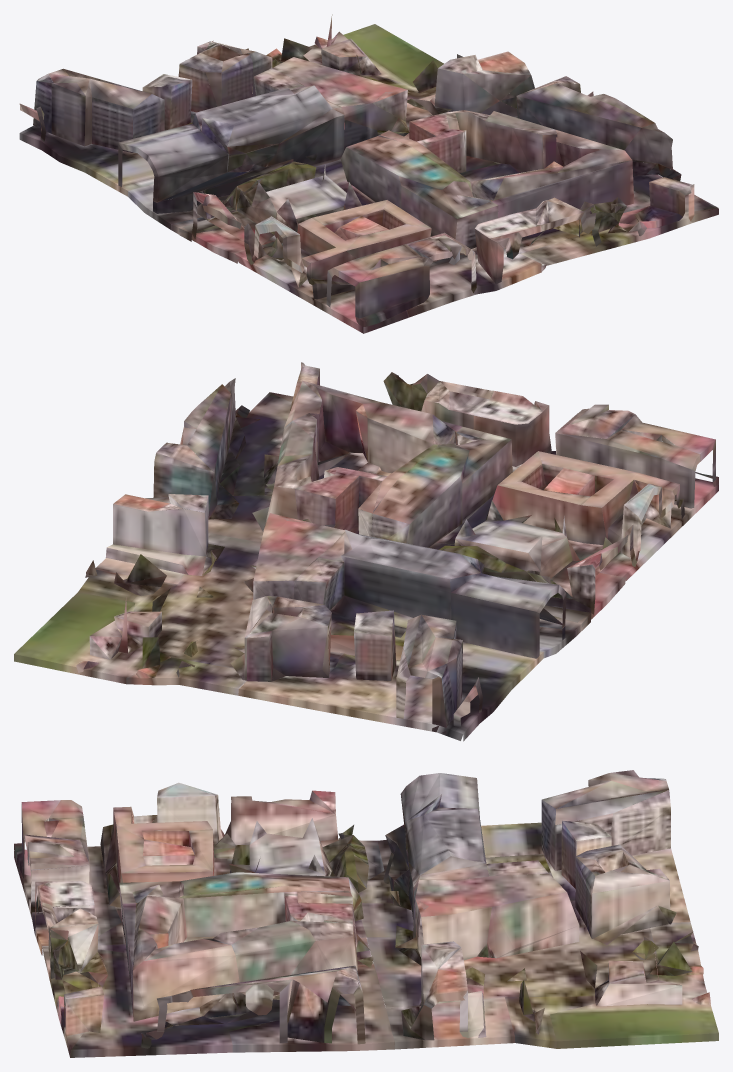
The picture shows the model from 3 angles, top to bottom: view 1: azimuth 30°, elevation 25°; view 2: azimuth 150°, elevation 25°; view 3: azimuth 270°, elevation 25°; orthographic projection. The views are drawn at different scales.
Parts seen in each view (by area): view 1: Mesh_0; view 2: Mesh_0; view 3: Mesh_0.
Part boxes in pixels (x1,y1,x2,y2): Mesh_0: (19, 14, 718, 333); Mesh_0: (14, 362, 718, 741); Mesh_0: (14, 770, 718, 1057).
Bounding box in the file's own units: 270 × 45.6 × 329.
Materials: 2 (2 with a texture image).
